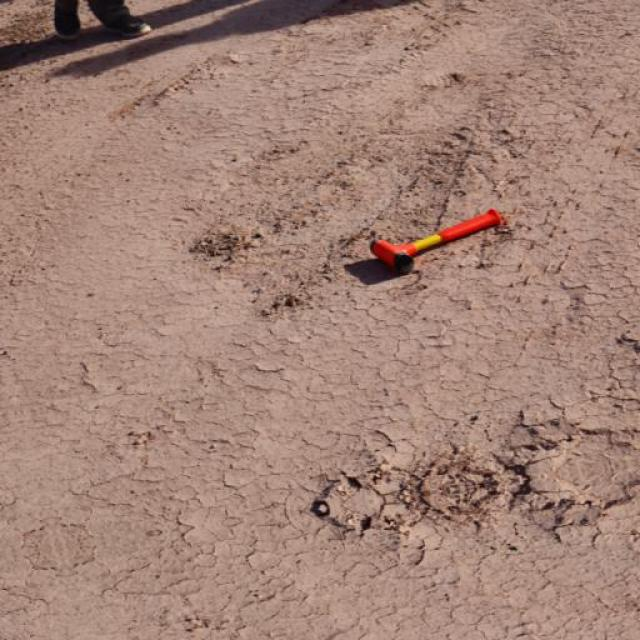mallet: (369, 206, 505, 272)
